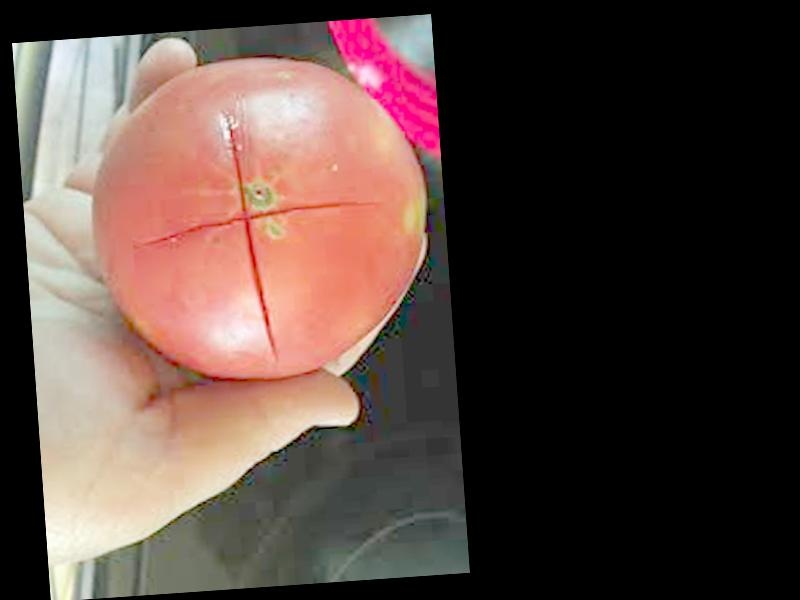Tomato: (81, 48, 425, 392)
